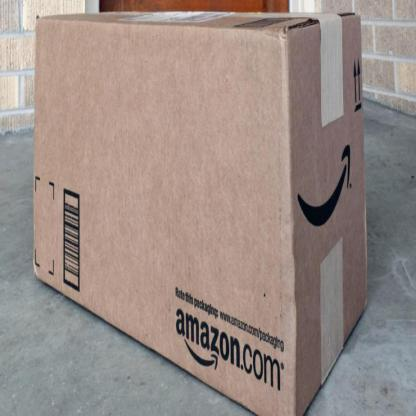package: (33, 11, 368, 415)
